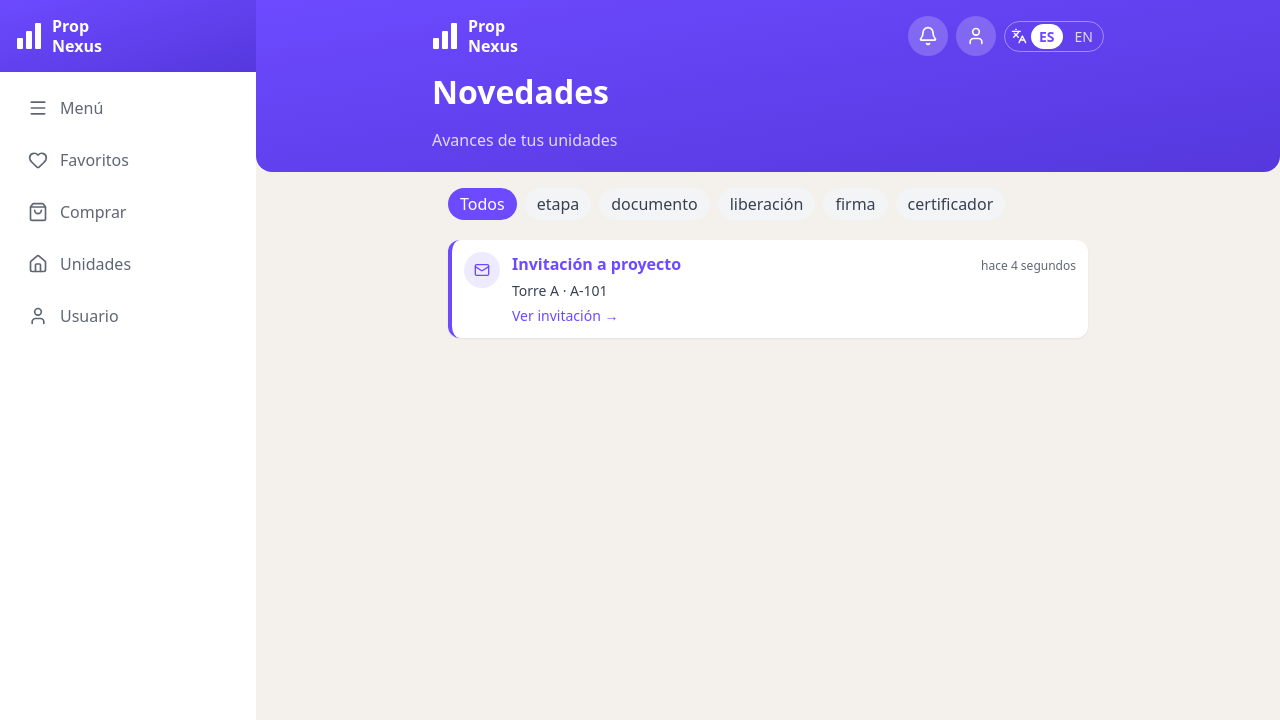
Test: /investor/notifications › mientras acepta, el botón muestra el texto de envío y queda deshabilitado
Click the text "Ver invitación →". click: x=565, y=316
box: [512,306,618,325]
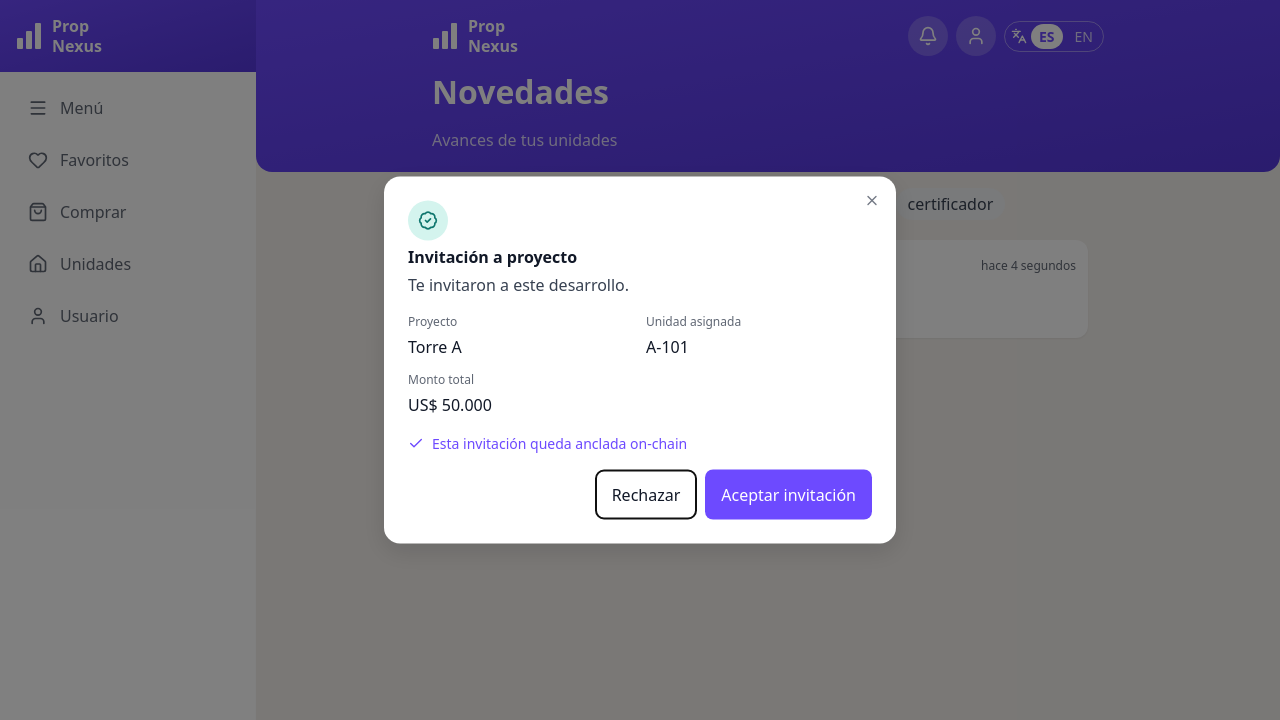
Click the button with test id "INV-INVITE-ACCEPT-002". click: x=789, y=494
box: [705,470,872,520]
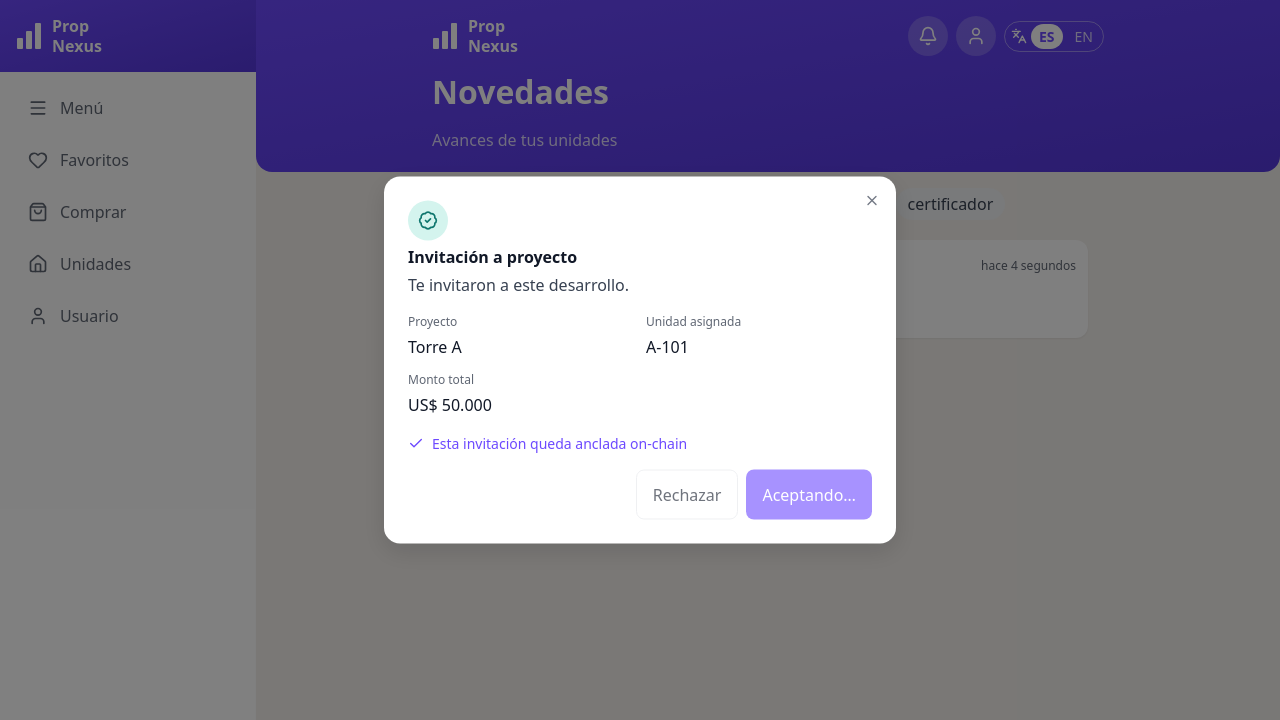
Expected: the button "Aceptando…" is disabled, [746,470,872,520]
